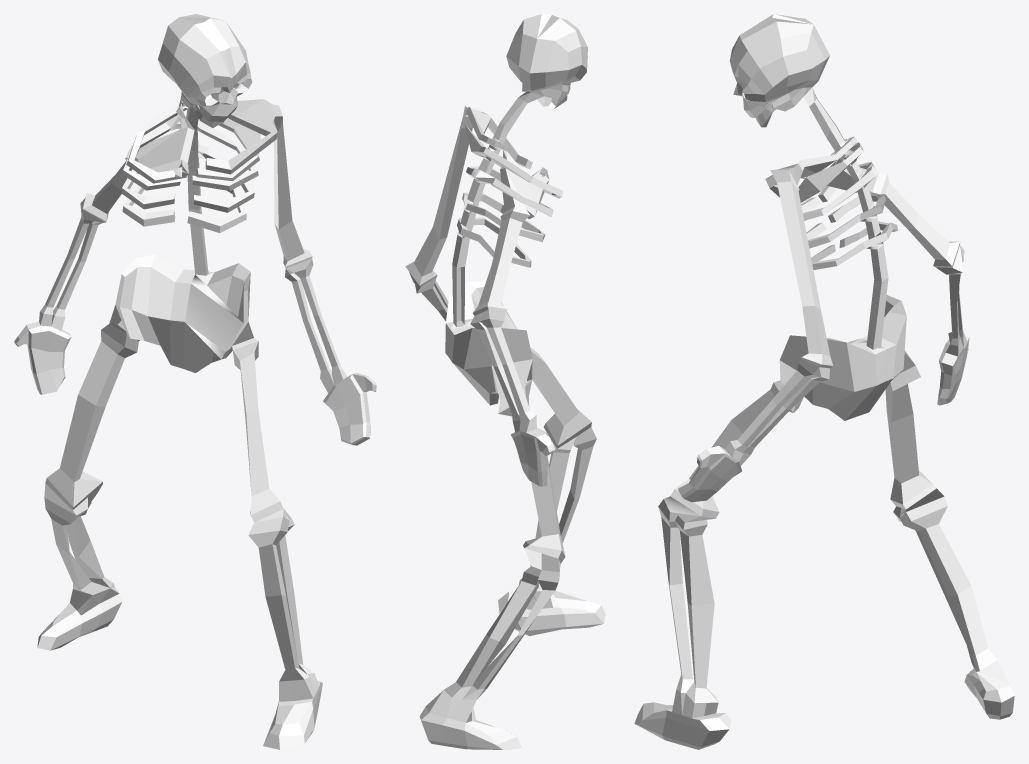
The model's file is SkeletonIdle(8).obj.
3 renders of one model, left to right at view 1: azimuth 30°, elevation 25°; view 2: azimuth 150°, elevation 25°; view 3: azimuth 270°, elevation 25°, orthographic. The views are drawn at different scales.
Parts seen in each view (by area): view 1: Object002; view 2: Object002; view 3: Object002.
Part boxes in pixels (x1,y1,x2,y2): Object002: (14,14,376,749); Object002: (405,14,605,749); Object002: (634,14,1014,749).
Bounding box in the file's own units: 399 × 1123 × 556.
